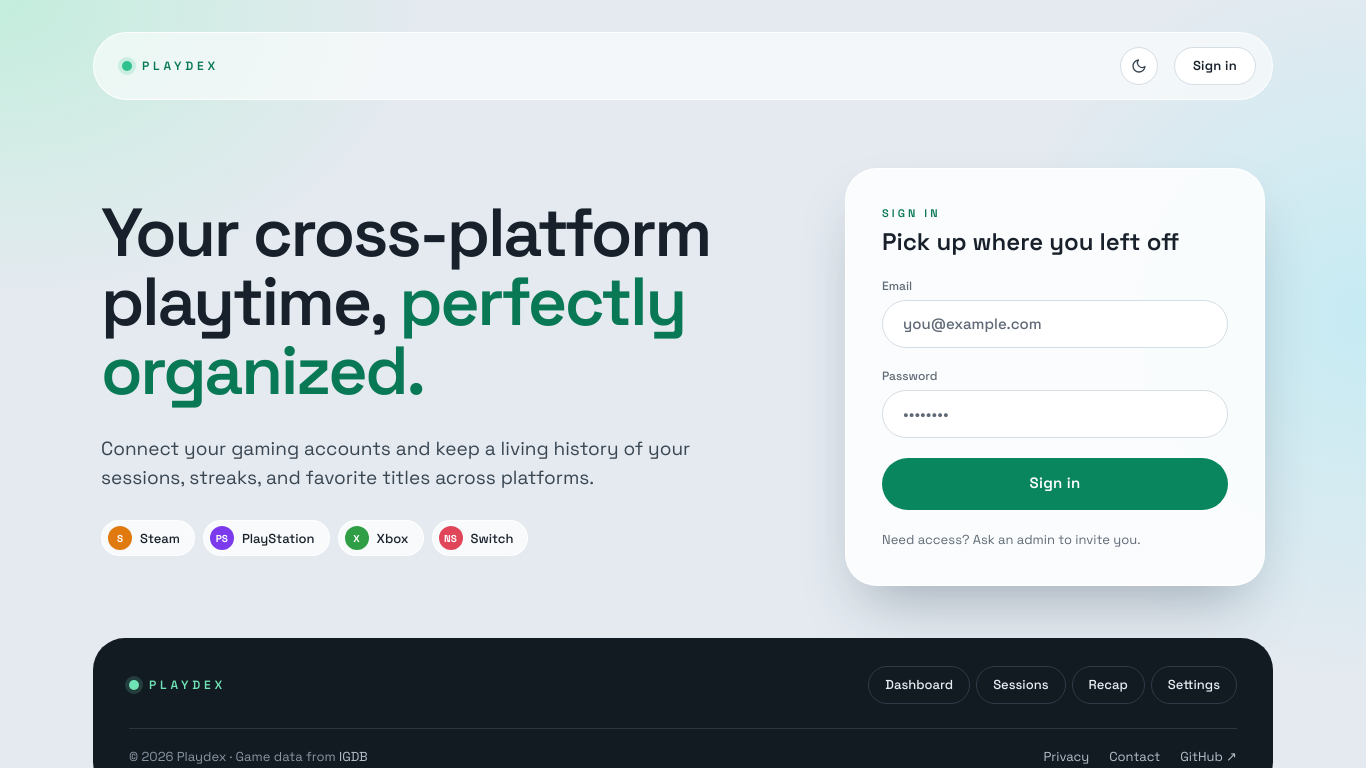
Test: HomePage › posts credentials and shows the login error
The image size is (1366, 768).
Type "a@b.c" into the field with placeholder "you@example.com" at (1055,324), box left=882, top=300, right=1228, bottom=348
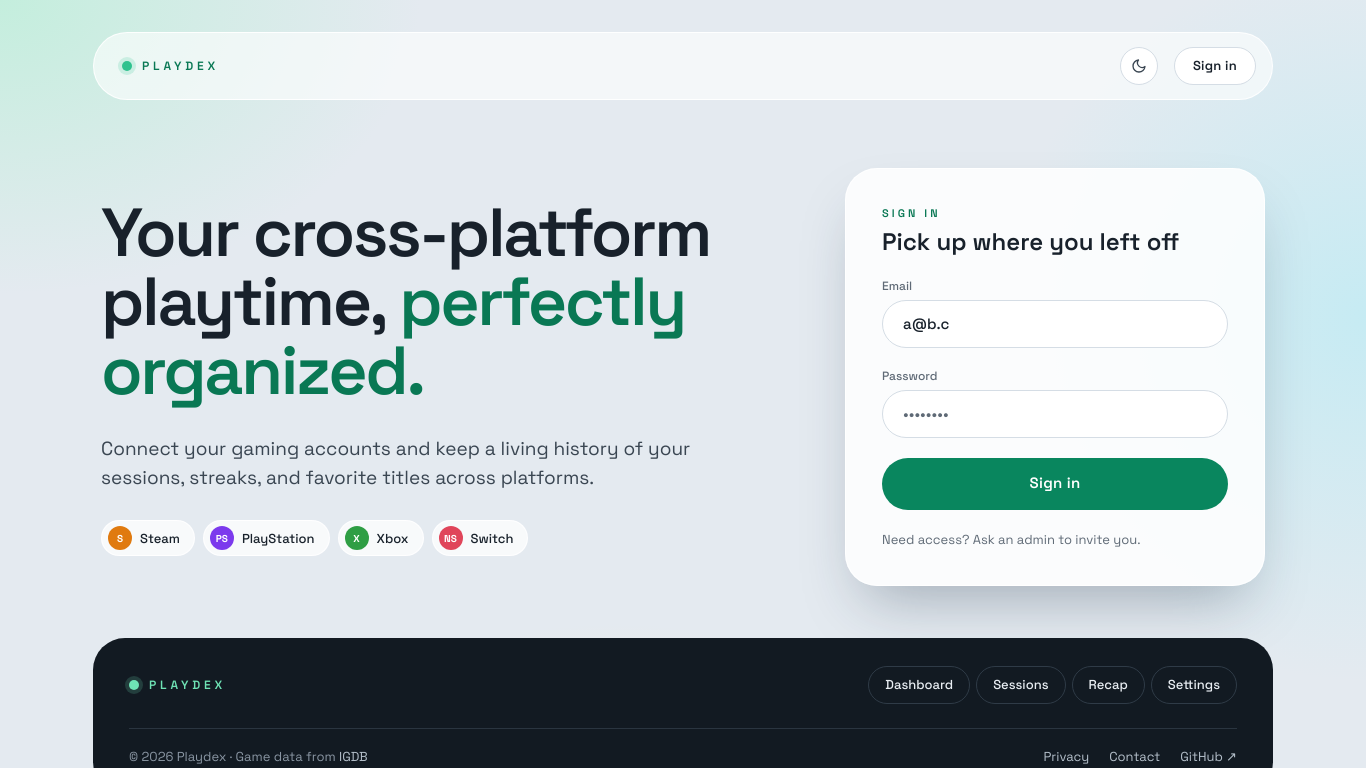
Type "secret" into the password field with placeholder "••••••••" at (1055,414), box left=882, top=390, right=1228, bottom=438
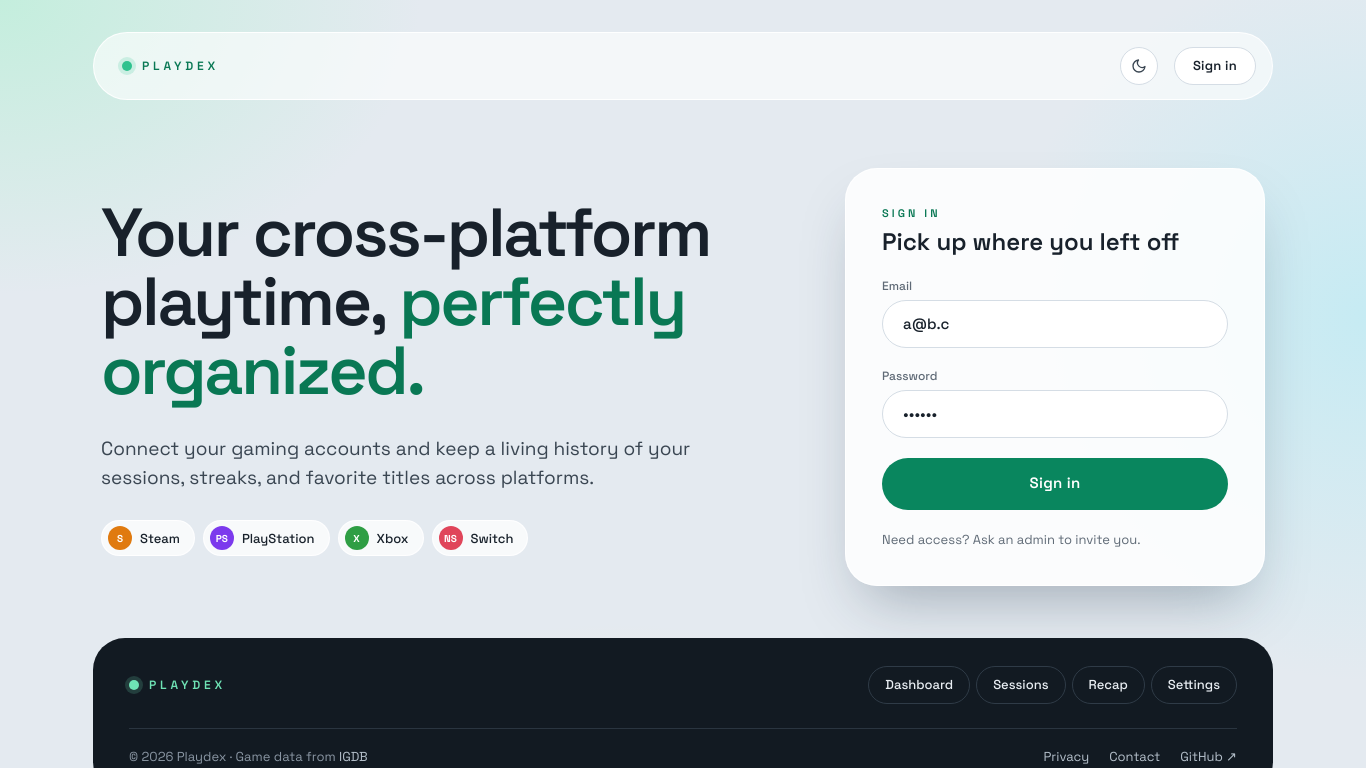
Click the button "Sign in" below "Password" at (1055,484), box left=882, top=458, right=1228, bottom=510
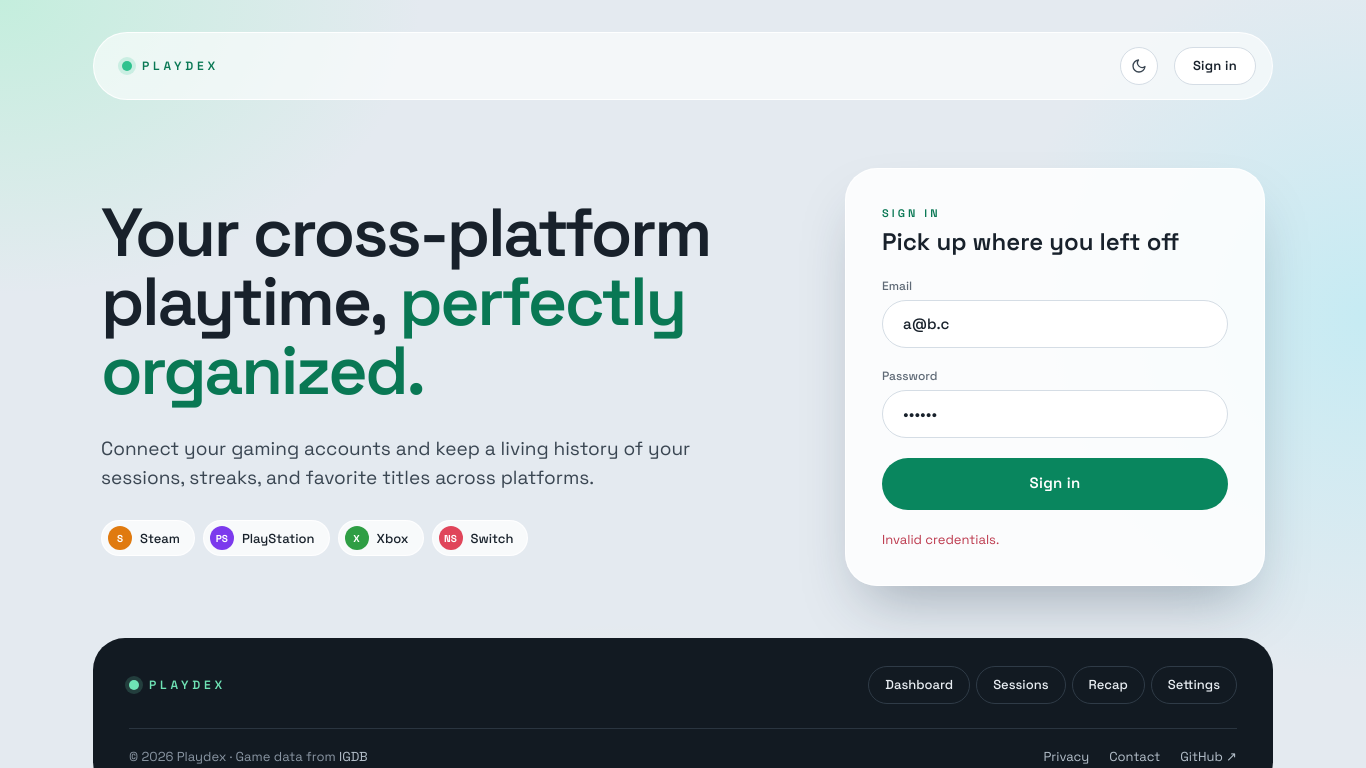
Expected: the text "Invalid credentials." is shown, left=882, top=530, right=999, bottom=548
